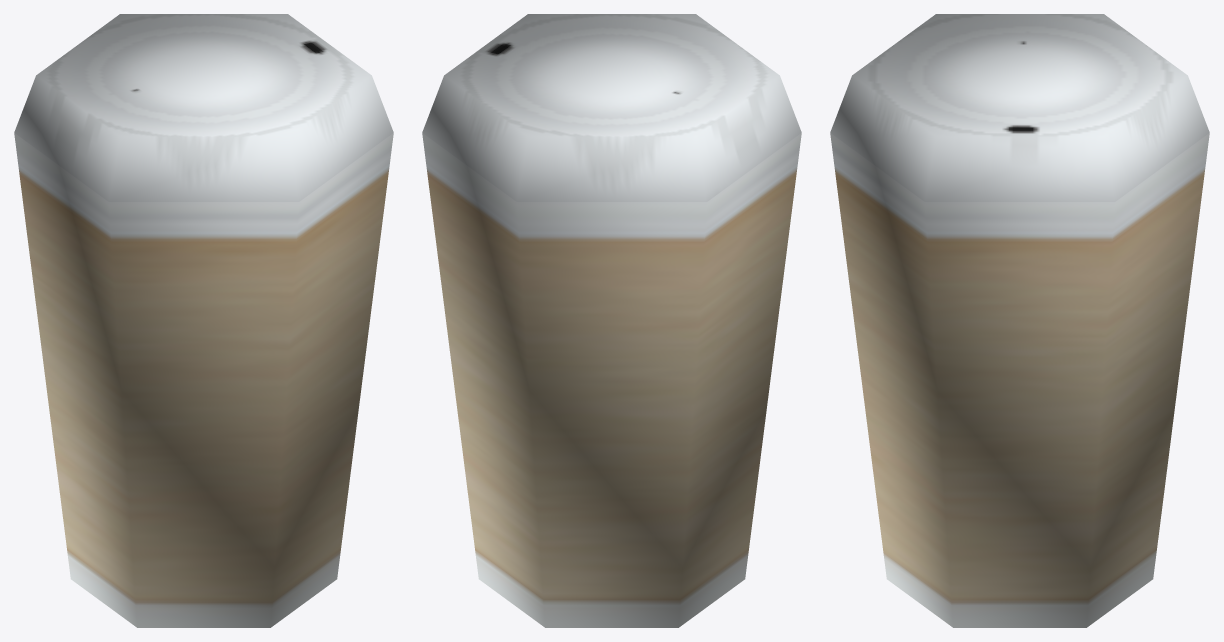
File: coffee_cup_withlid.glb
3 renders of one model, left to right at view 1: azimuth 30°, elevation 25°; view 2: azimuth 150°, elevation 25°; view 3: azimuth 270°, elevation 25°, orthographic.
Parts seen in each view (by area): view 1: Coffee_Cup_WithLid; view 2: Coffee_Cup_WithLid; view 3: Coffee_Cup_WithLid.
Part boxes in pixels (<box>): Coffee_Cup_WithLid: <box>14,14,393,627</box>; Coffee_Cup_WithLid: <box>422,14,801,627</box>; Coffee_Cup_WithLid: <box>830,14,1209,627</box>.
Size of the model in its own units: 0.2623 by 0.4435 by 0.3029.
1 material, 1 textured.
